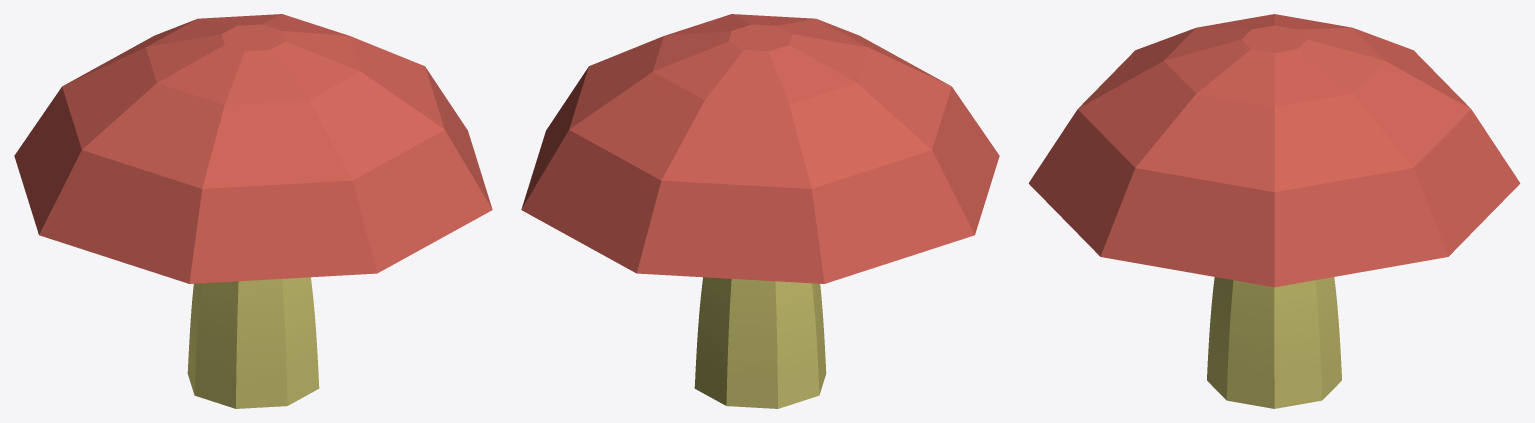
The picture shows the model from 3 angles, left to right: view 1: azimuth 30°, elevation 25°; view 2: azimuth 150°, elevation 25°; view 3: azimuth 270°, elevation 25°; orthographic projection.
Visible parts, largest first — view 1: facet_band, stalk; view 2: facet_band, stalk; view 3: facet_band, stalk.
Part boxes in pixels (x1,y1,x2,y2): facet_band: (14,14,492,283); stalk: (187,277,319,408); facet_band: (521,14,999,283); stalk: (694,277,826,408); facet_band: (1028,14,1520,287); stalk: (1207,277,1341,408).
Size of the model in its own units: 0.12 by 0.0918 by 0.12.
